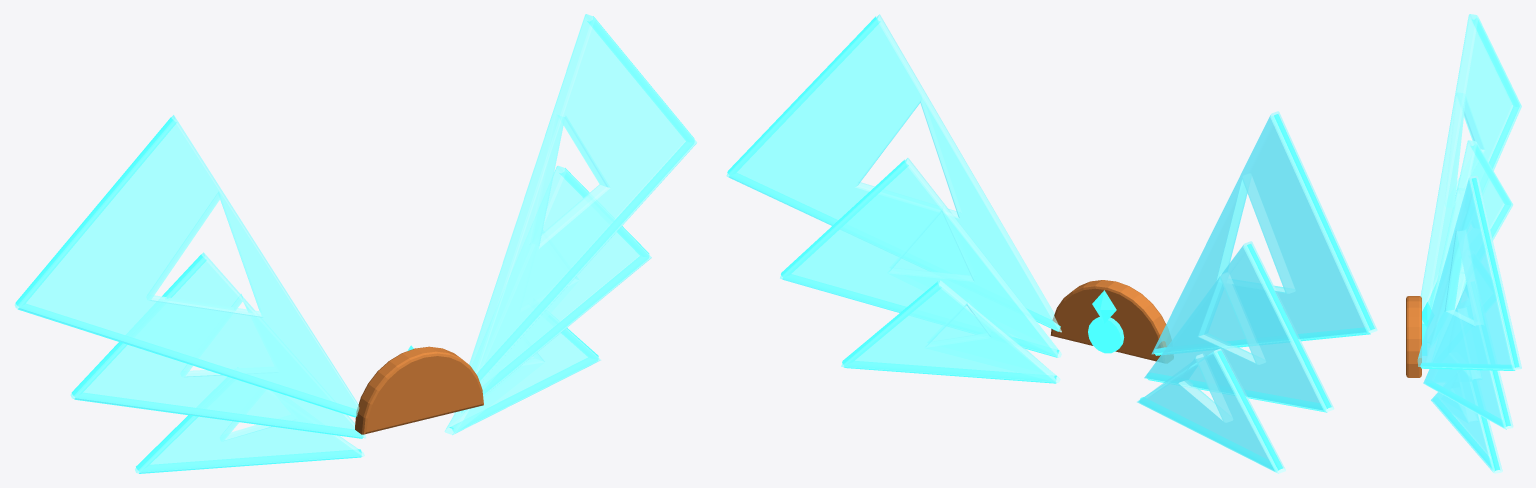
File: back_eqsu3.glb
3 renders of one model, left to right at view 1: azimuth 30°, elevation 25°; view 2: azimuth 150°, elevation 25°; view 3: azimuth 270°, elevation 25°, orthographic. The views are drawn at different scales.
Bounding box in the file's own units: 4.7 × 2.39 × 0.8685.
